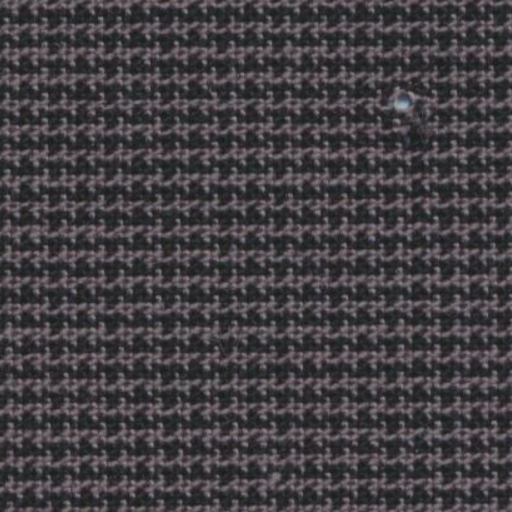PoDong: (372, 63, 452, 150)
